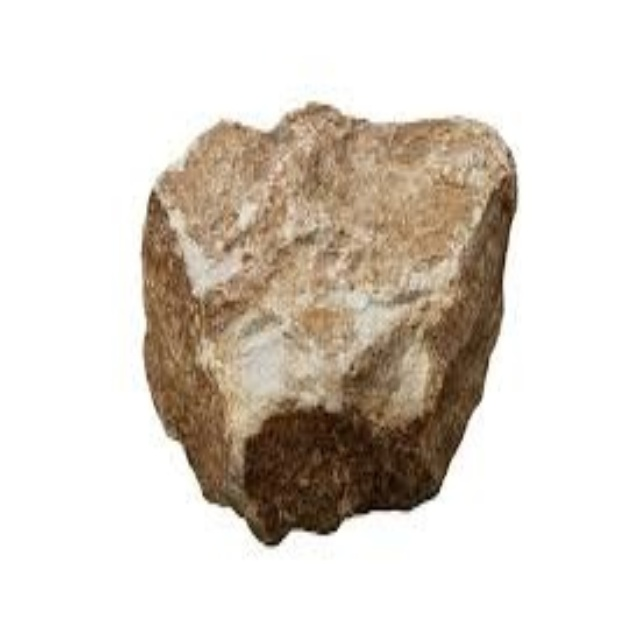obstacle: (142, 105, 514, 539)
